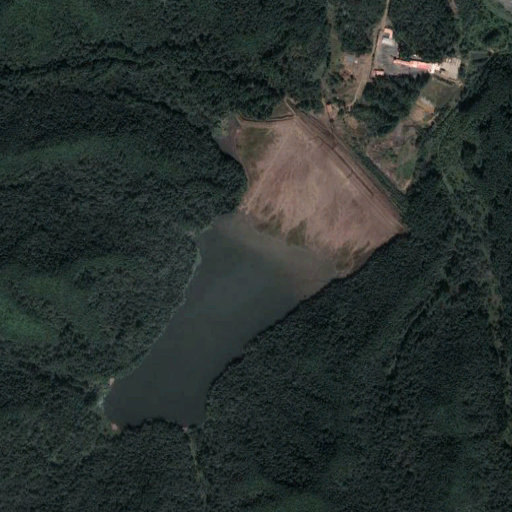tp: (96, 111, 401, 432)
